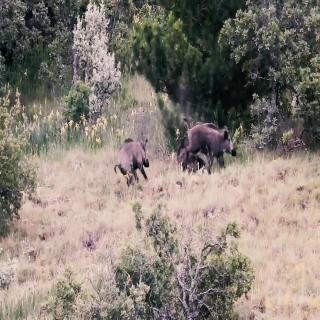Pig: (178, 115, 238, 195), (109, 116, 153, 216)
